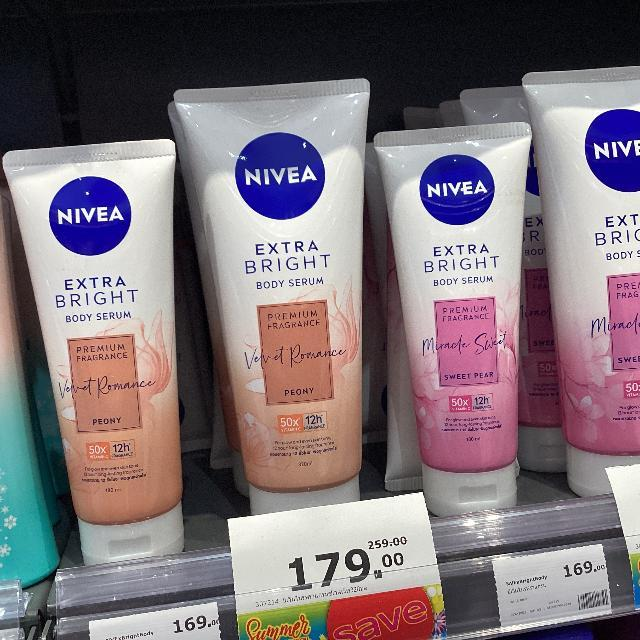Squeeze Tube: (164, 81, 386, 515), (9, 135, 191, 573), (370, 114, 537, 517), (531, 46, 640, 491)
